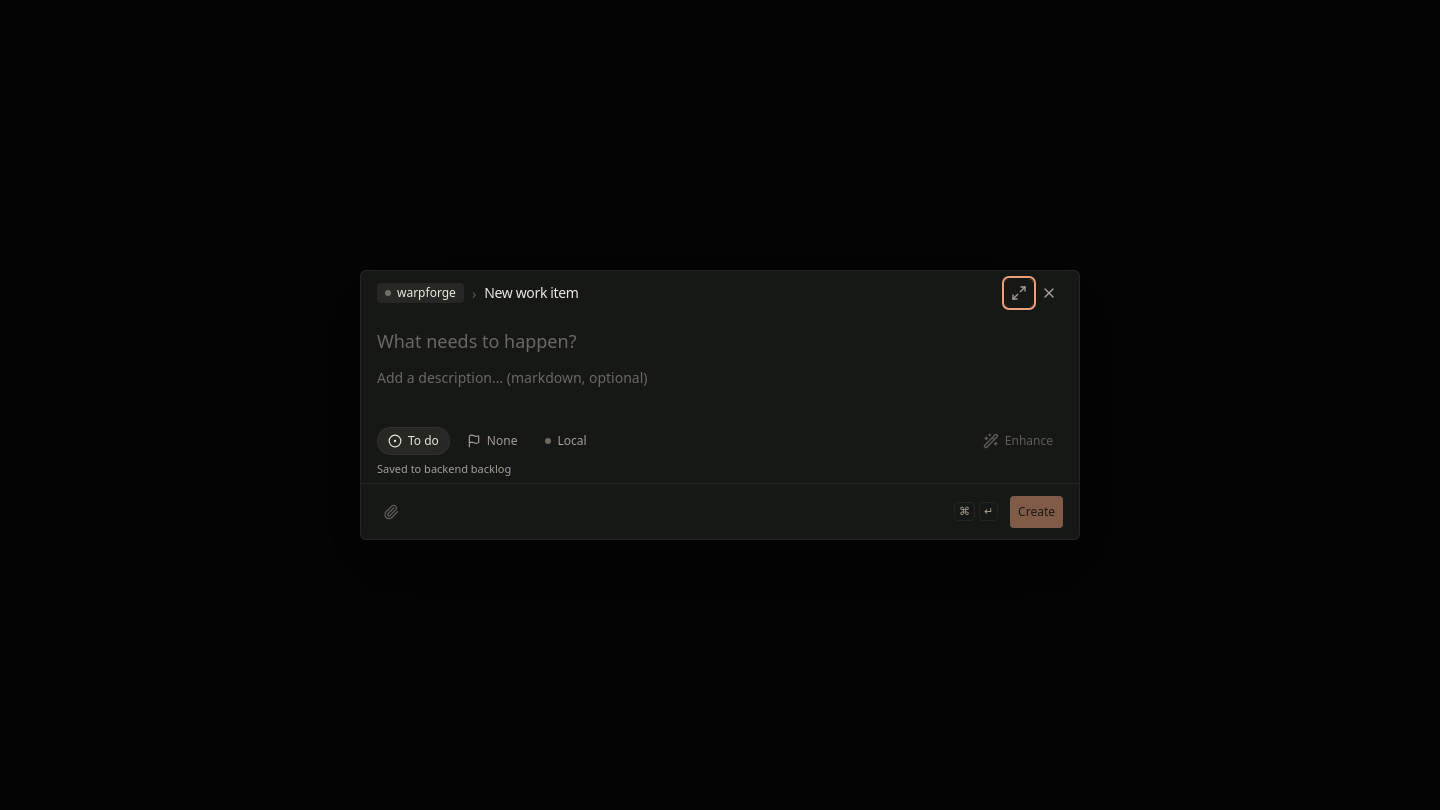
Test case: NewWorkItemDrawer › takes no for an answer and keeps the draft
In the text box named "Title": (720, 345) [377, 327, 1063, 363], type "Half an idea"
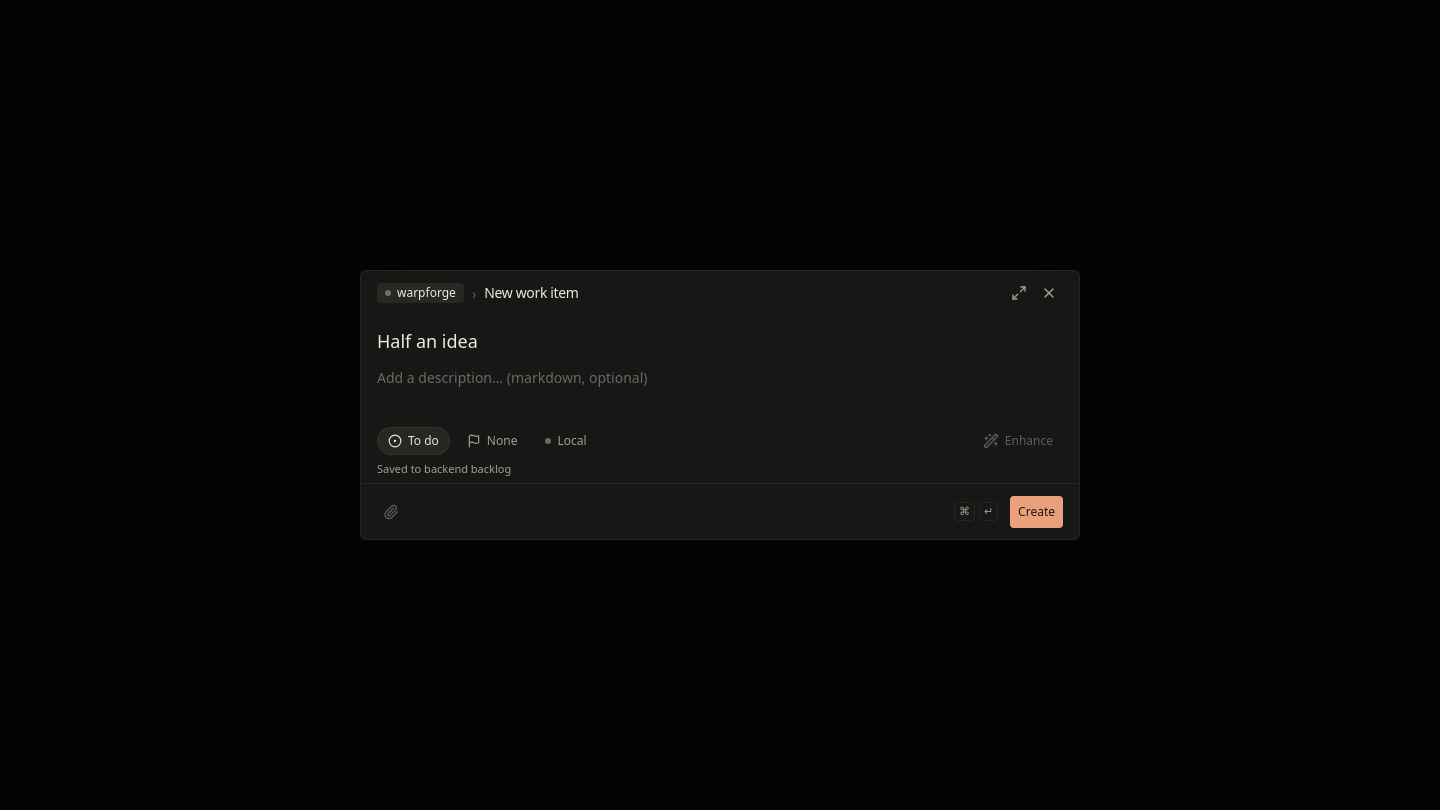
Press Escape
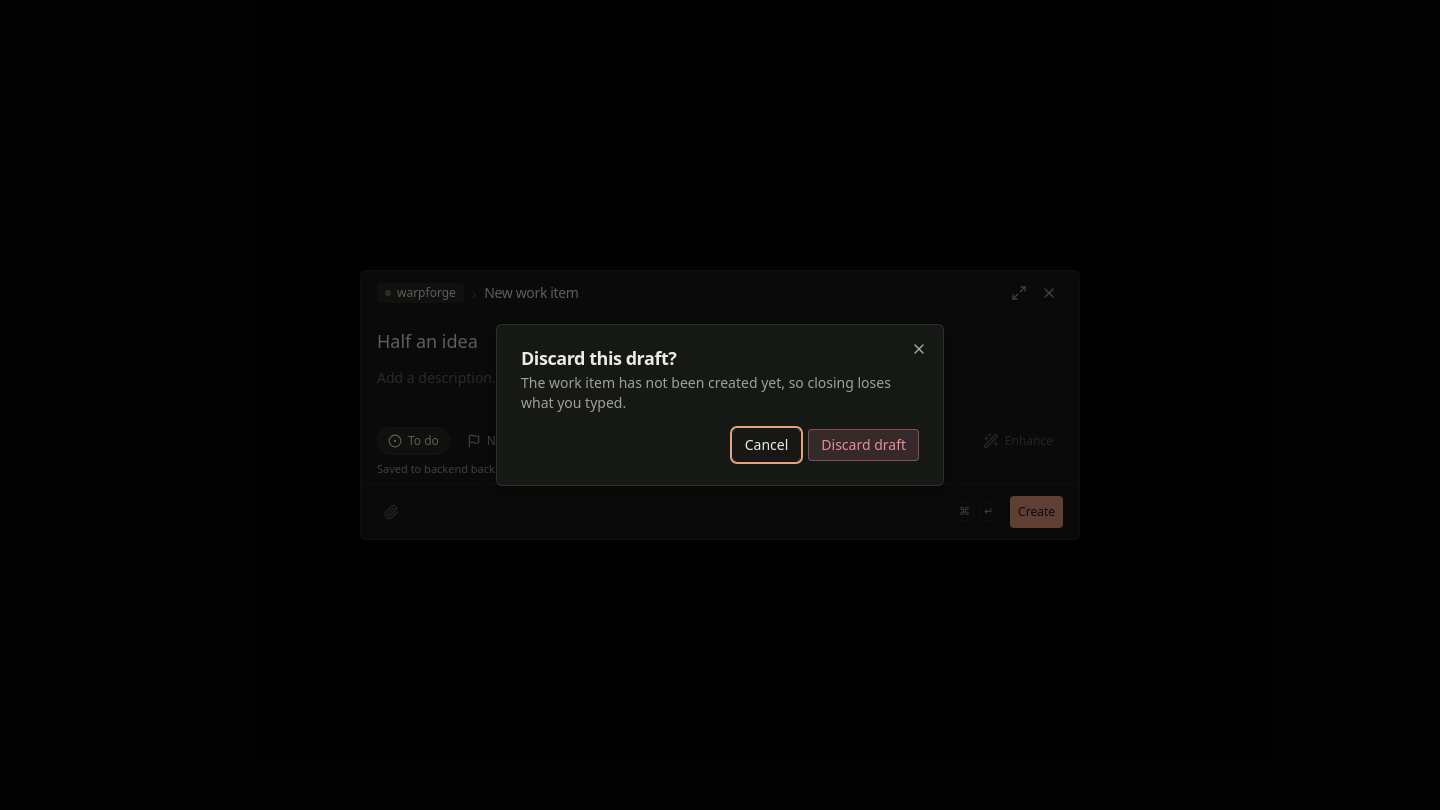
Click the button "Cancel": (766, 445) [733, 429, 800, 461]
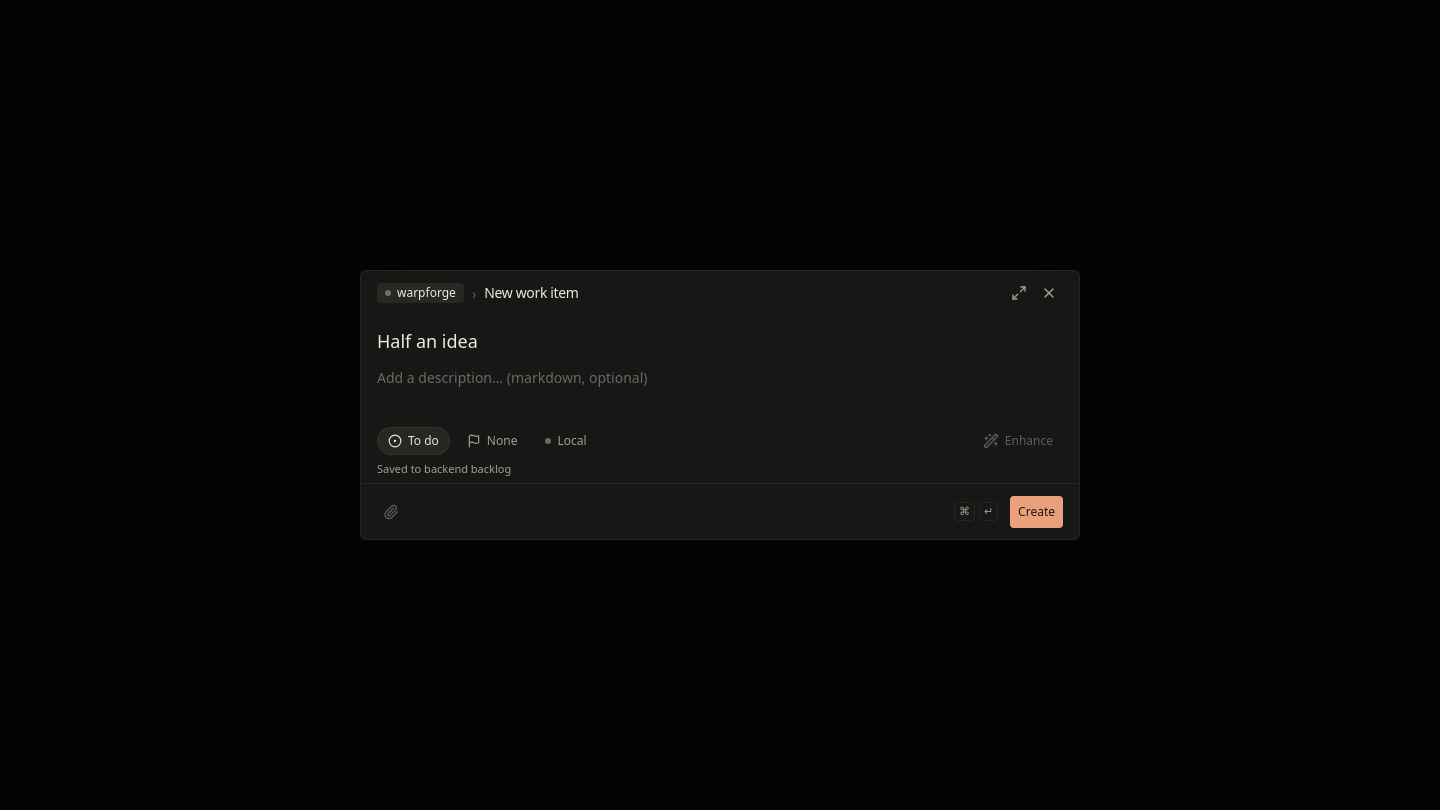
Now the text "loses what you typed" is gone
